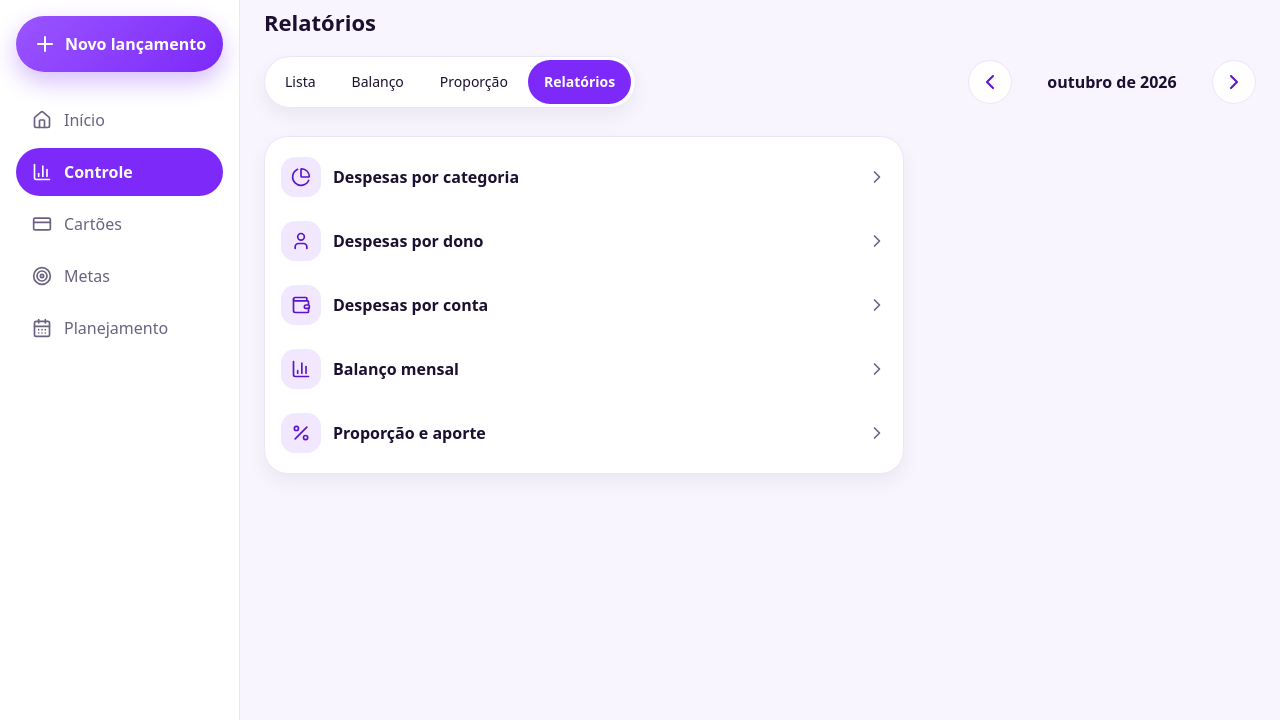
Test case: Relatórios: menu › tocar numa opção abre o relatório
Click the link "Despesas por dono": (301, 241) top-left (273, 209), bottom-right (895, 273)
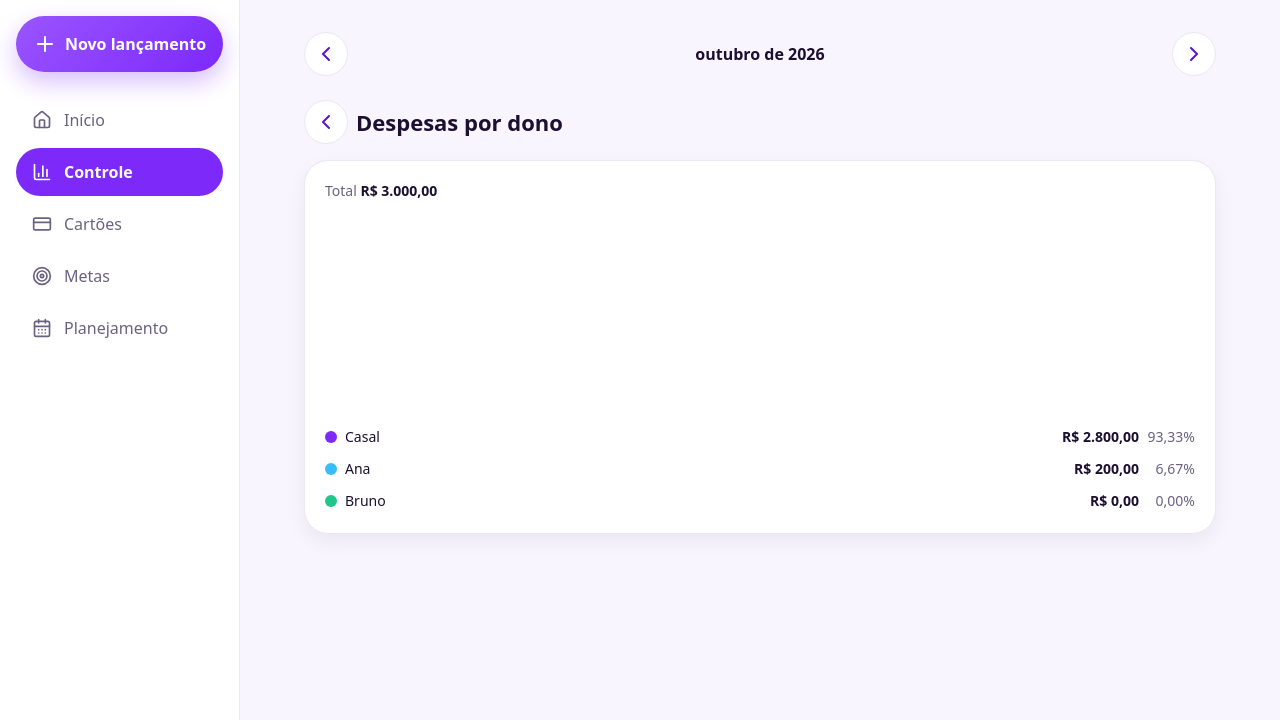
Result: the heading "Despesas por dono" is shown at top-left (356, 107), bottom-right (563, 137)
